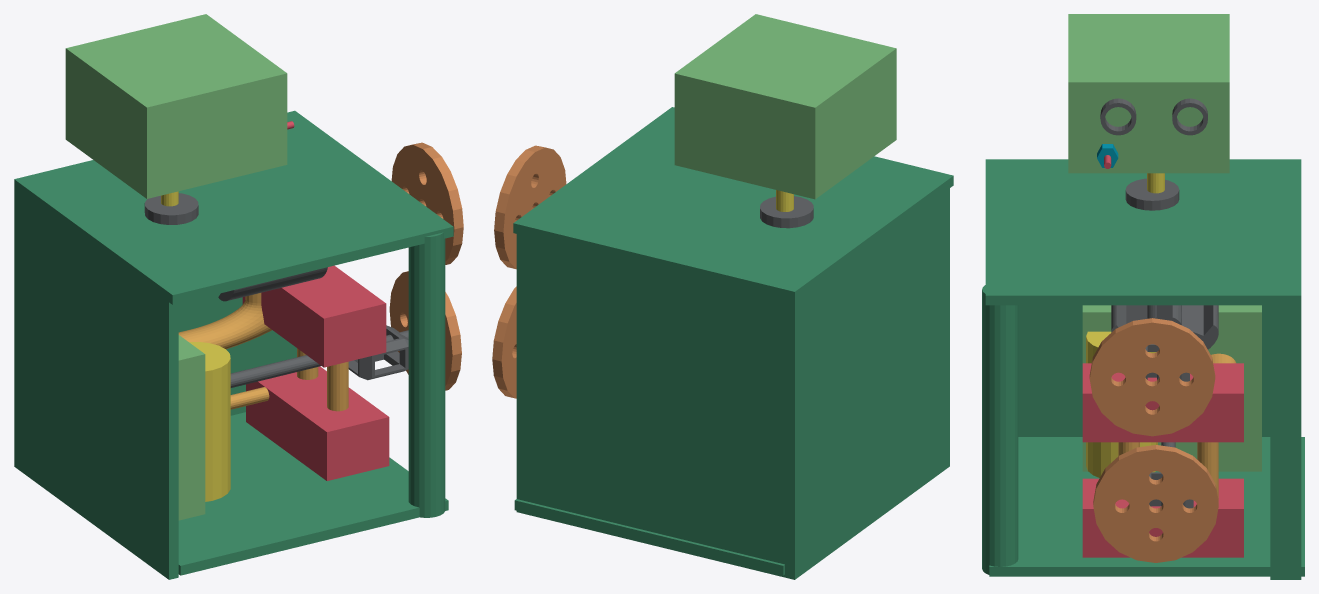
File: seamSetup.glb
The picture shows the model from 3 angles, left to right: view 1: azimuth 30°, elevation 25°; view 2: azimuth 150°, elevation 25°; view 3: azimuth 270°, elevation 25°; orthographic projection.
Visible parts, largest first — view 1: Mesh_Mesh_head_geo.001_lambert2SG.001; view 2: Mesh_Mesh_head_geo.001_lambert2SG.001; view 3: Mesh_Mesh_head_geo.001_lambert2SG.001.
Part boxes in pixels (left/top/right/bottom): Mesh_Mesh_head_geo.001_lambert2SG.001: left=14, top=14, right=463, bottom=579; Mesh_Mesh_head_geo.001_lambert2SG.001: left=492, top=14, right=953, bottom=579; Mesh_Mesh_head_geo.001_lambert2SG.001: left=982, top=14, right=1304, bottom=579.
Bounding box in the file's own units: 110 × 135 × 90.
